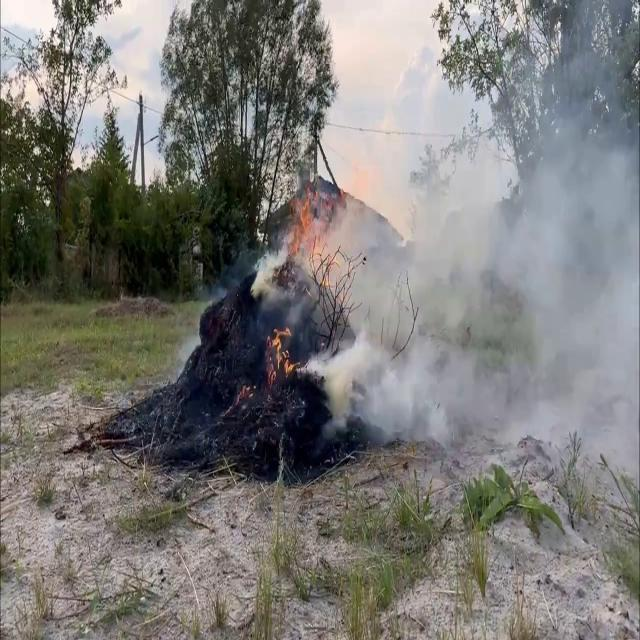Smoke: (284, 9, 638, 487)
